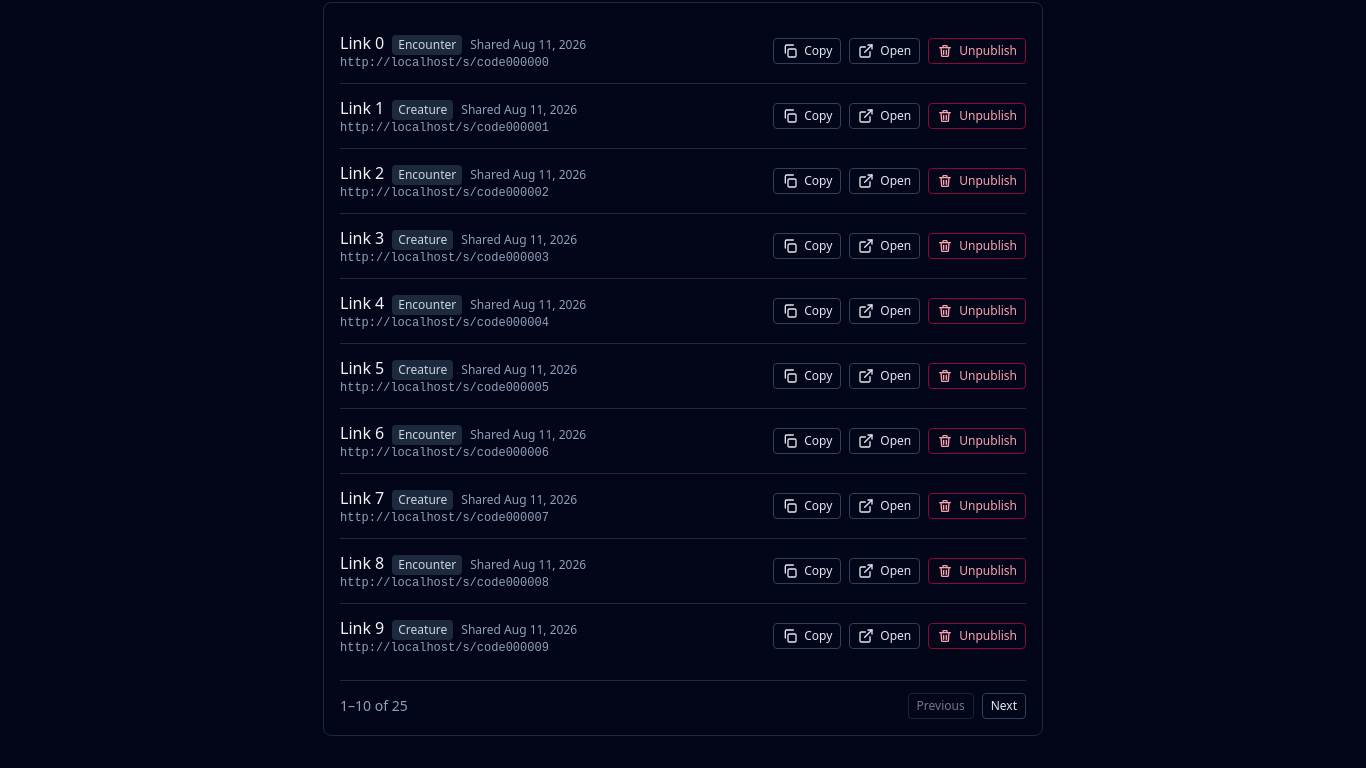
Test: SharedLinksPage › pages rather than scrolling forty links past the reader
The image size is (1366, 768).
(page scrolled)
Expected: the text "Link 0" is shown, x1=340 y1=31 x2=384 y2=55
Expected: the text "Link 10" is not shown
Click the button "Next": (1004,706) x1=982 y1=693 x2=1026 y2=719
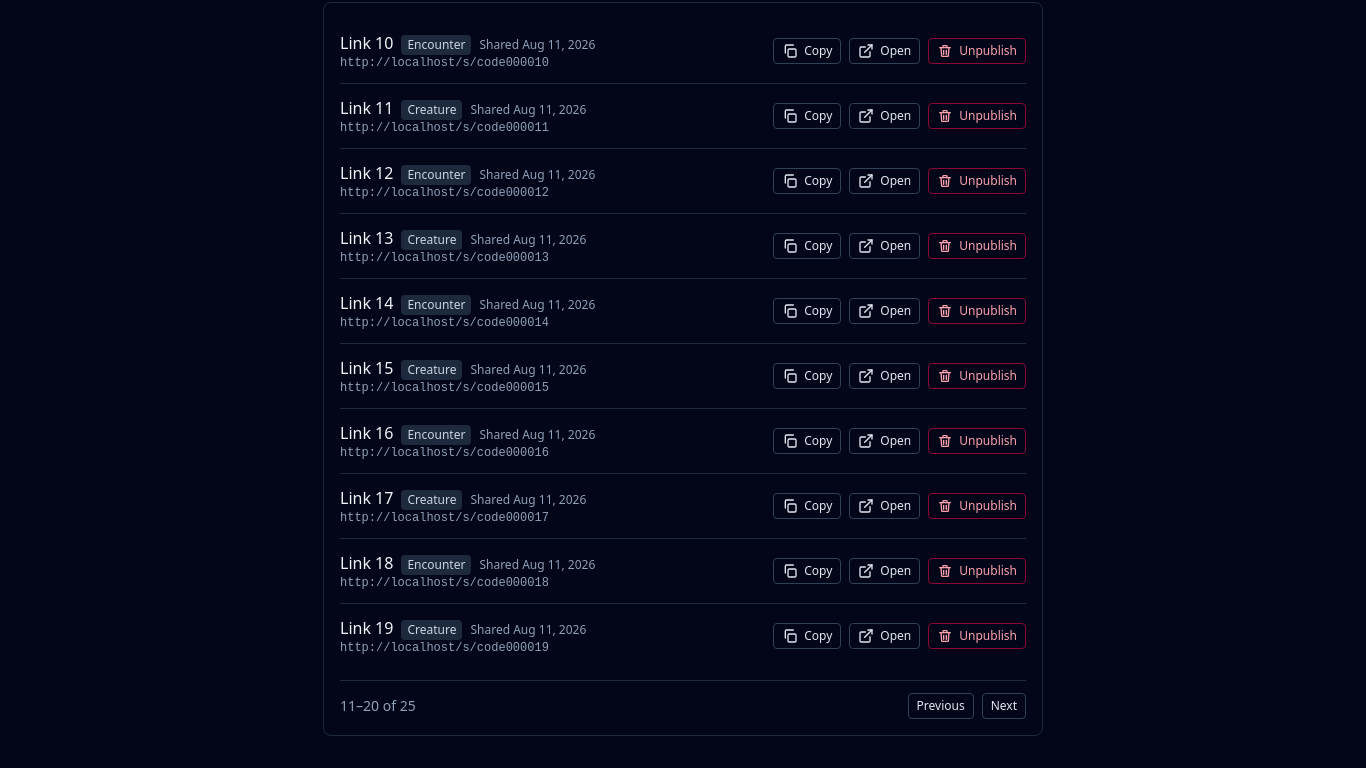
Expected: the text "Link 10" is shown, x1=340 y1=31 x2=393 y2=55
Expected: the text "Link 0" is gone
Expected: the text "11–20 of 25" is shown, x1=340 y1=696 x2=416 y2=716
Click the button "Next": (1004,706) x1=982 y1=693 x2=1026 y2=719
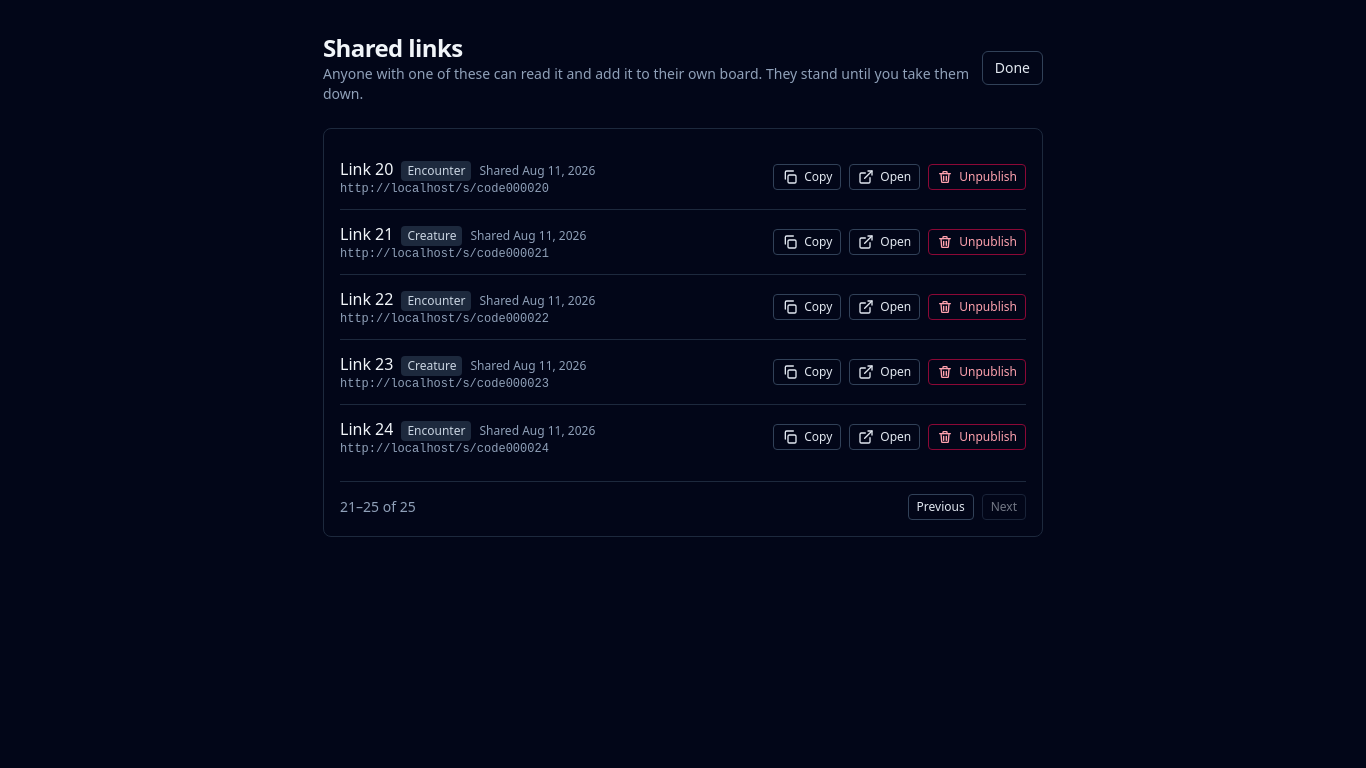
Expected: the text "21–25 of 25" is shown, x1=340 y1=497 x2=416 y2=517
Expected: the button "Next" is disabled, x1=982 y1=494 x2=1026 y2=520
